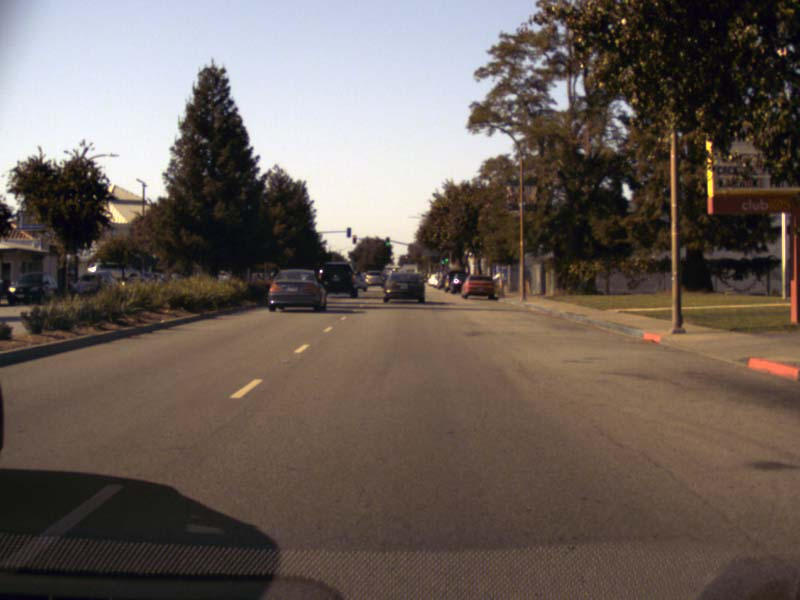Green: (444, 251, 449, 266), (440, 255, 444, 268), (385, 236, 389, 249)
Red: (352, 235, 356, 243)
